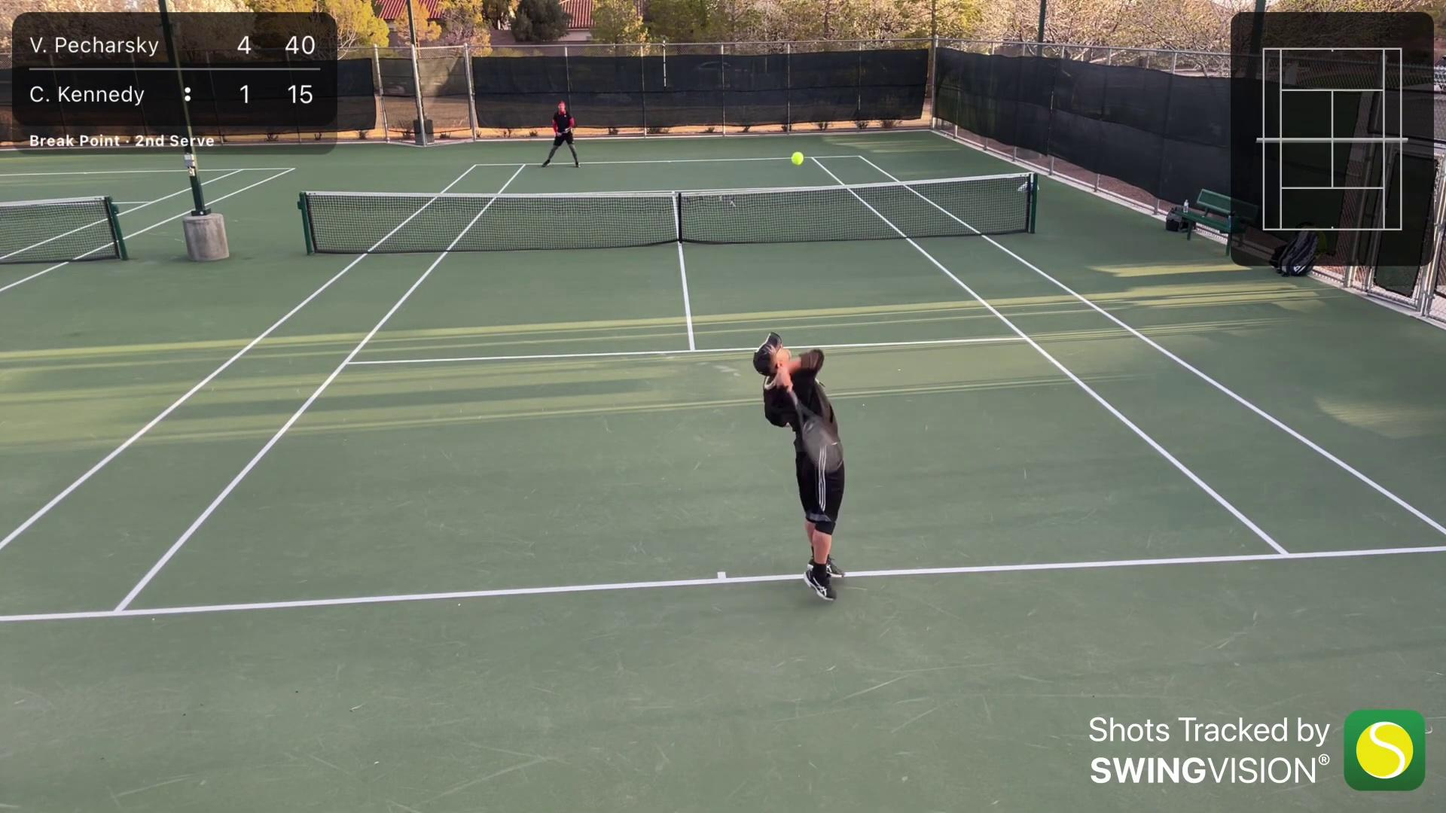ball: (788, 151, 806, 165)
